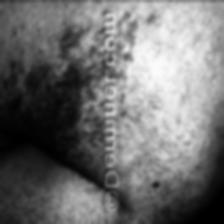Potentially Malignant Skin Tumors: (34, 55, 90, 150)
